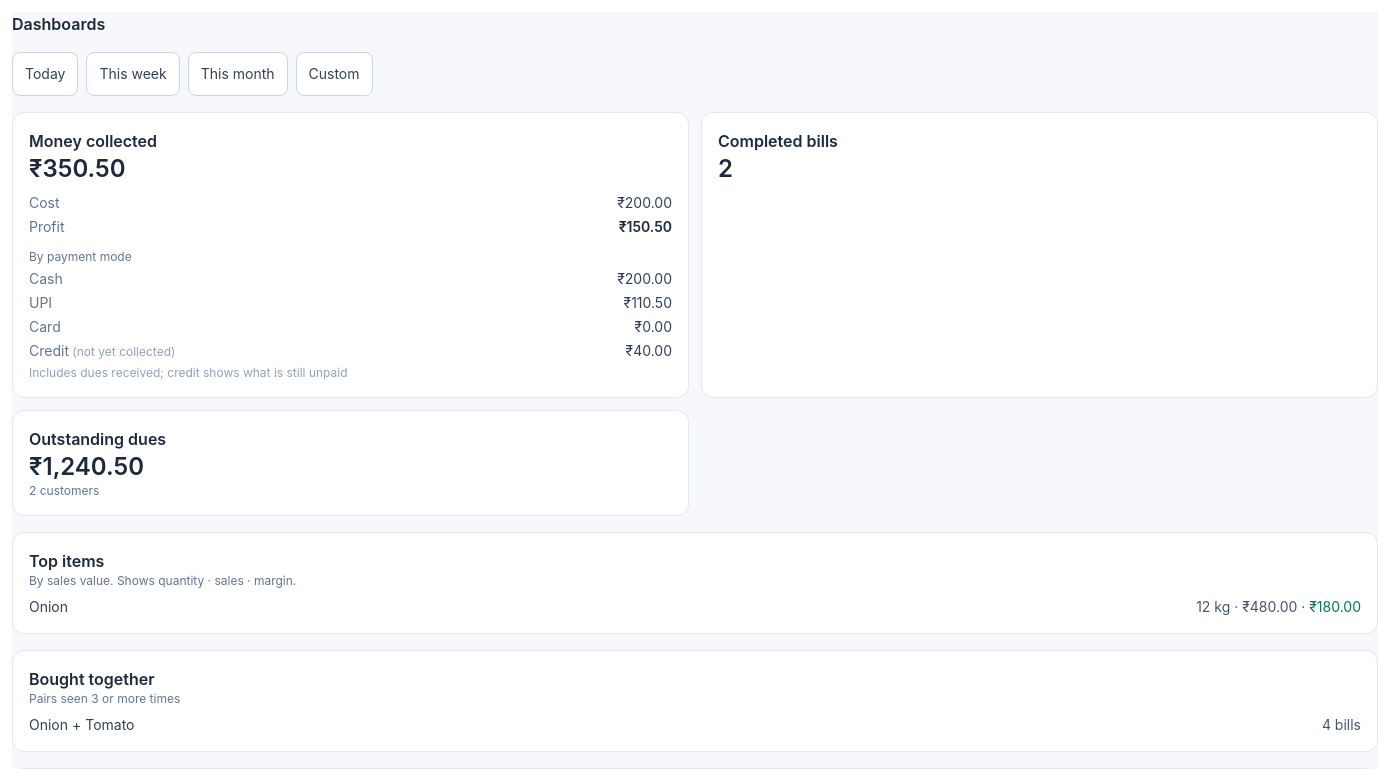
Scenario: the dashboard › ignores a slow response for a range the user has already moved off
Expected: the text "₹350.50" is shown, [29, 154, 126, 183]
Click the button with test id "range-month": (238, 74) [188, 52, 288, 96]
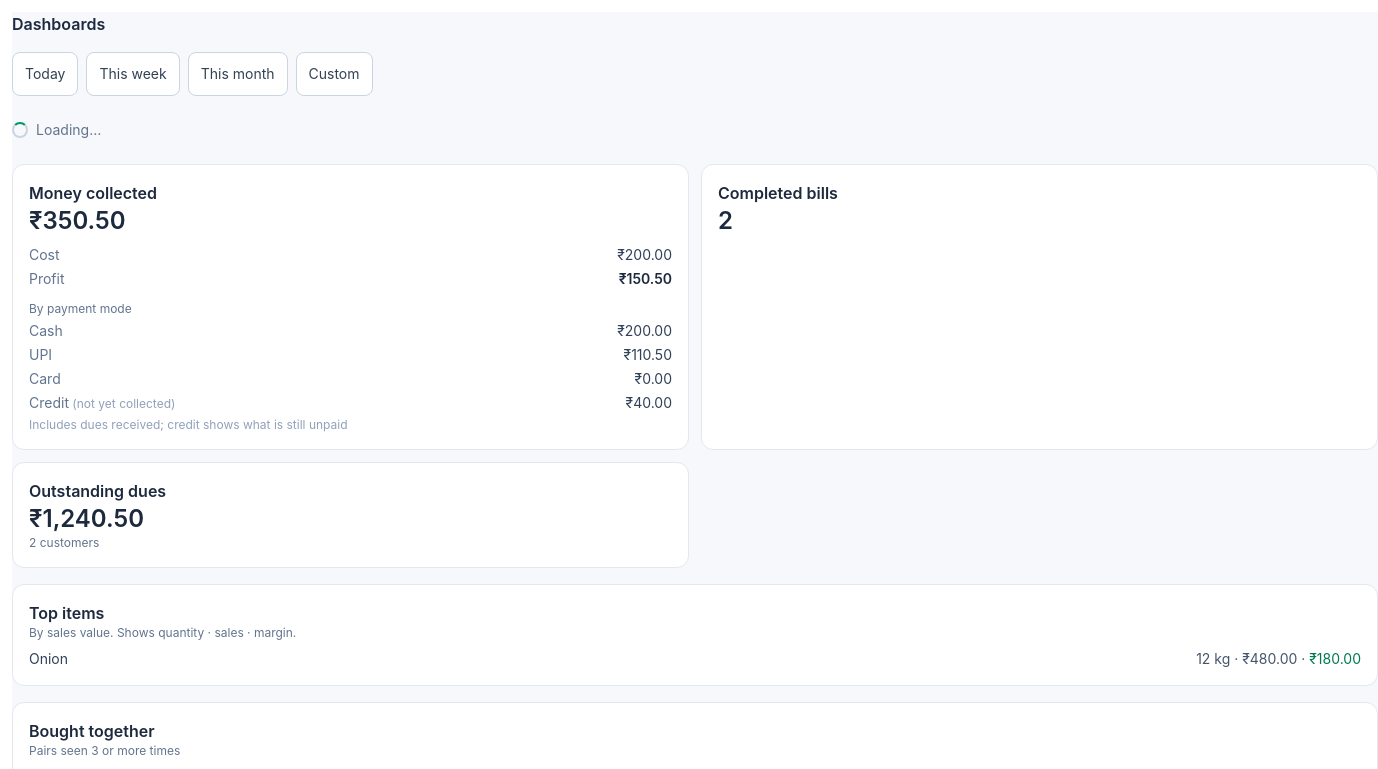
Click the button with test id "range-today": (45, 74) [12, 52, 78, 96]
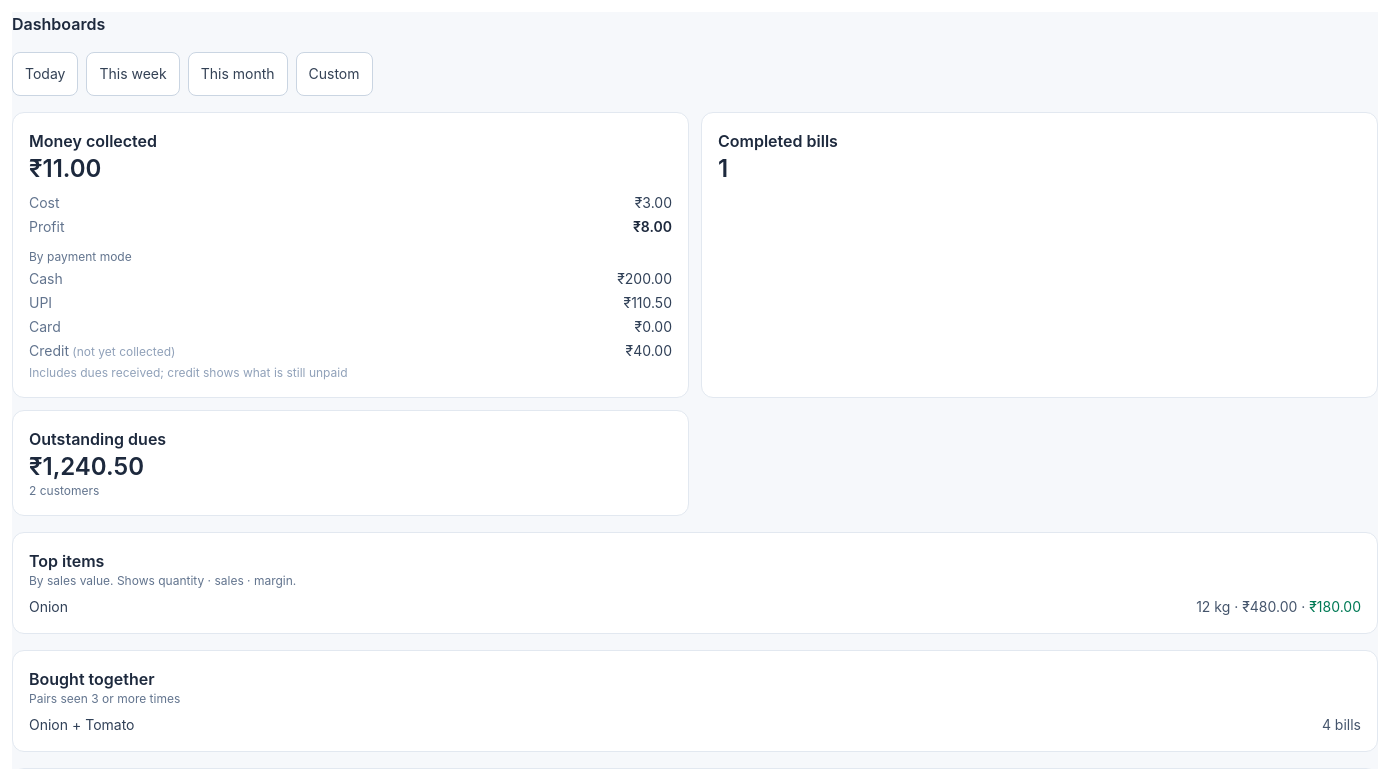
Now the text "₹11.00" is shown, box [29, 154, 101, 183]
